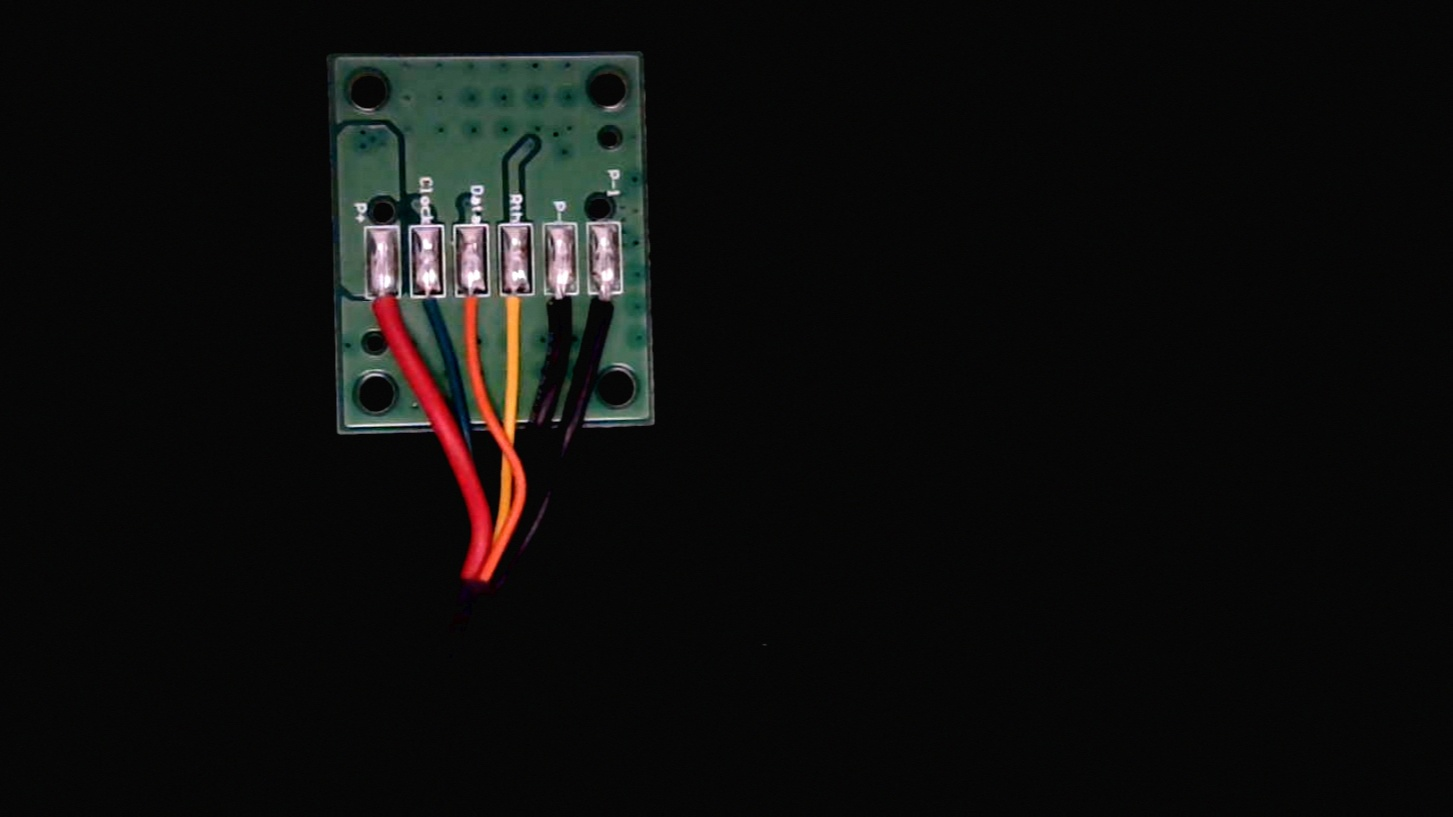Black: (548, 280, 584, 353)
Black1: (593, 279, 631, 356)
Green: (413, 278, 449, 340)
Orange: (456, 278, 494, 351)
Red: (366, 280, 406, 352)
Yellow: (503, 278, 539, 351)
